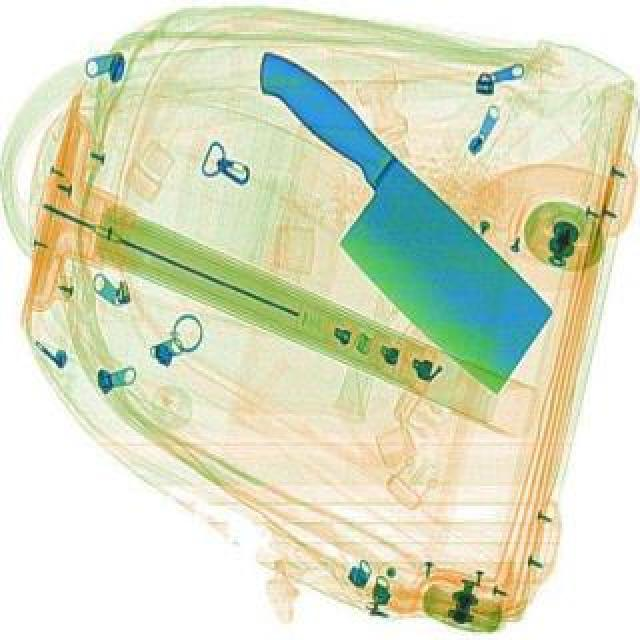knife: (208, 20, 576, 404)
